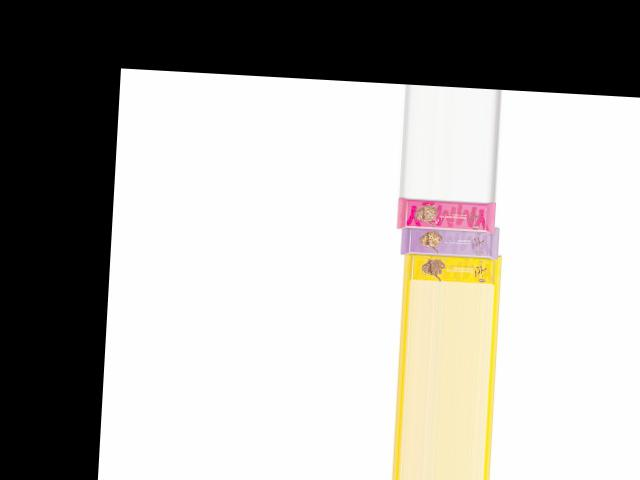chocolate: (390, 195, 500, 233)
